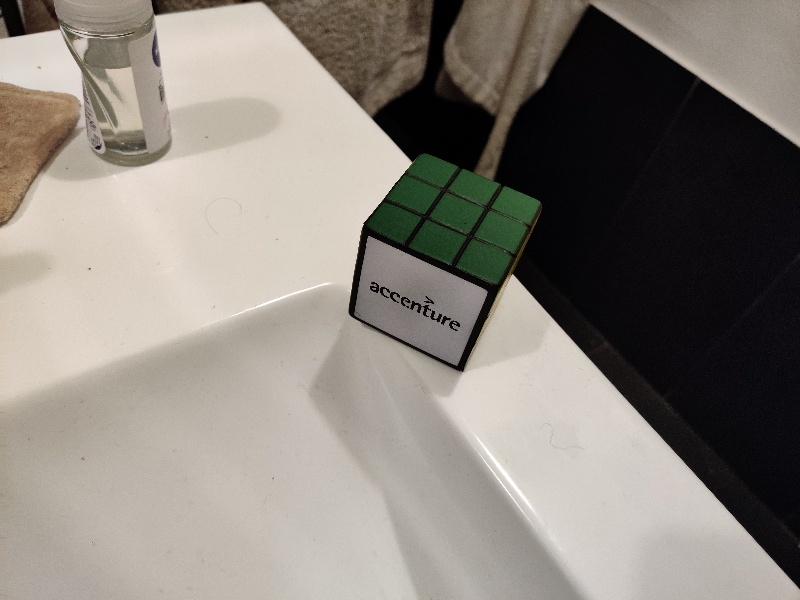rubik: (348, 154, 542, 372)
